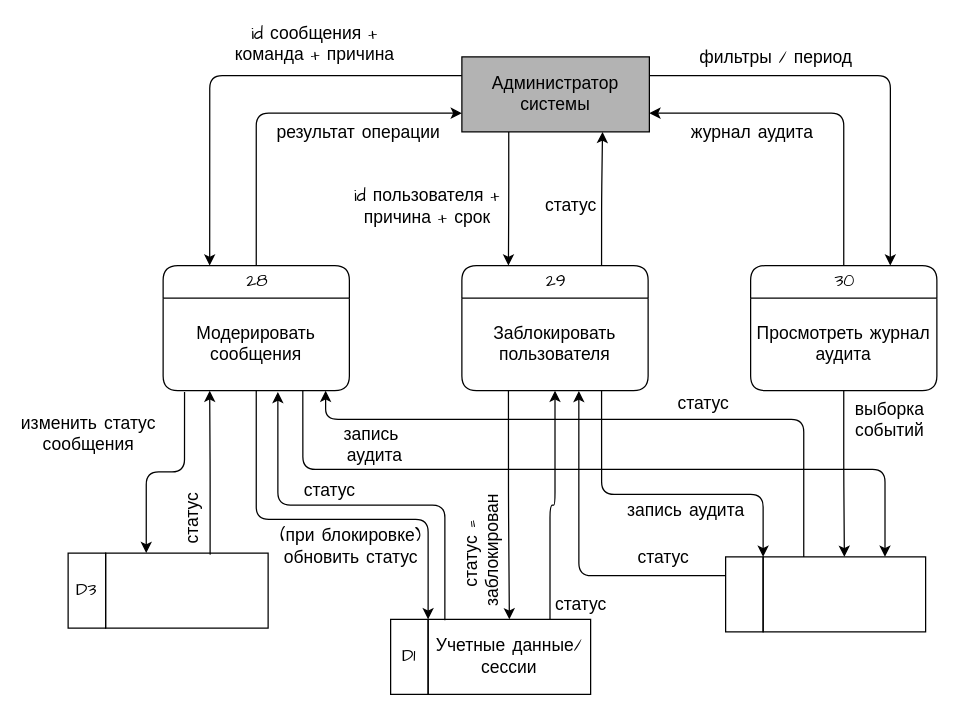
Image size: 966x716. Some labels were removed from this diagram. The centre of each missing label's shape, as x and y in pixels:
"D12" belongs at point 743,594.
"Журнал модерации" belongs at point 844,594.
"Чаты" belongs at point 186,590.
